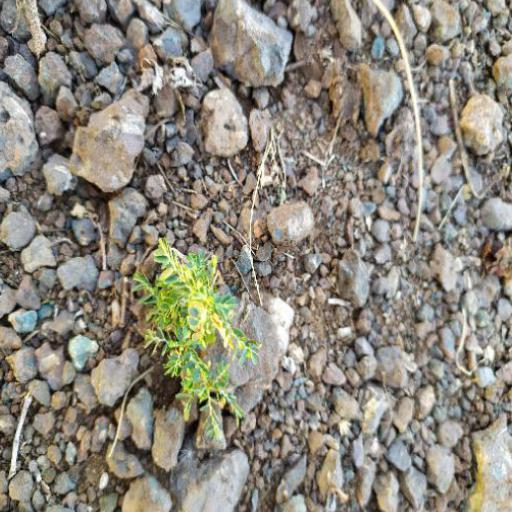weed: (139, 240, 272, 450)
